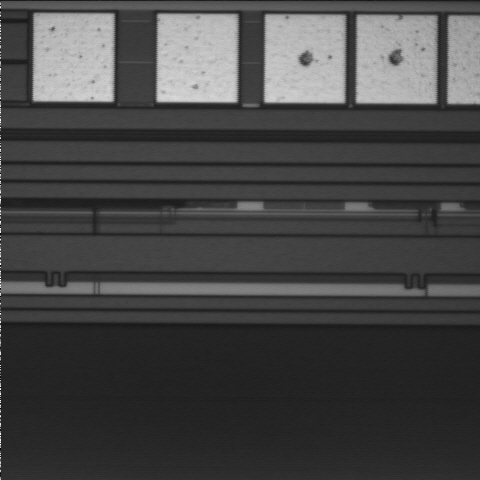pad: (157, 15, 237, 102), (34, 14, 113, 101), (265, 16, 344, 102), (357, 18, 435, 103)
